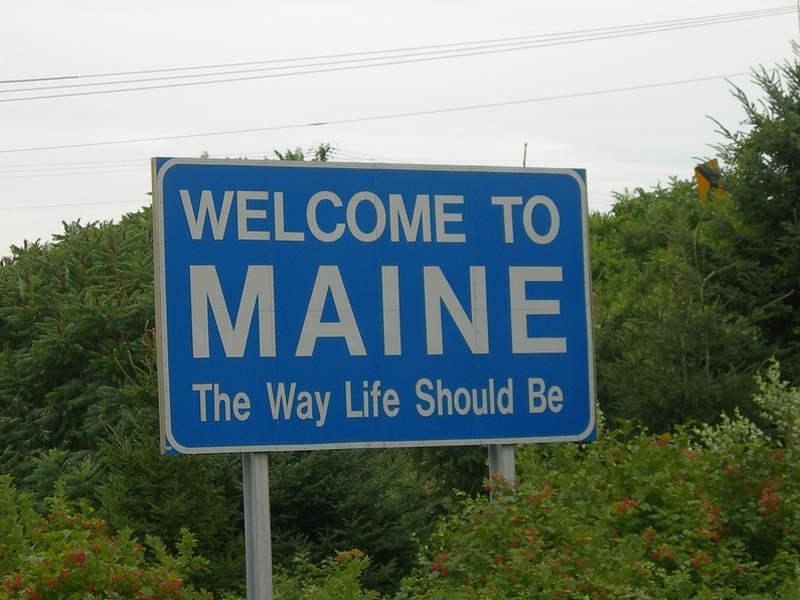text: (193, 262, 208, 361), (209, 262, 224, 361), (225, 262, 240, 361), (241, 262, 256, 361), (257, 262, 272, 361), (273, 262, 288, 361), (289, 262, 304, 361), (305, 262, 320, 361), (321, 262, 336, 361), (337, 262, 352, 361), (353, 262, 368, 361), (369, 262, 384, 361), (385, 262, 400, 361), (401, 262, 416, 361), (417, 262, 432, 361), (433, 262, 448, 361), (449, 262, 464, 361), (465, 262, 480, 361), (481, 262, 496, 361), (497, 262, 512, 361), (513, 262, 528, 361), (529, 262, 544, 361), (545, 262, 560, 361), (193, 188, 208, 244), (209, 188, 224, 244), (225, 188, 240, 244), (241, 188, 256, 244), (257, 188, 272, 244), (273, 188, 288, 244), (289, 188, 304, 244), (305, 188, 320, 244), (321, 188, 336, 244), (337, 188, 352, 244), (353, 188, 368, 244), (369, 188, 384, 244), (385, 188, 400, 244), (401, 188, 416, 244), (417, 188, 432, 244), (433, 188, 448, 244), (449, 188, 464, 244), (321, 380, 337, 431), (561, 262, 569, 361), (178, 188, 192, 244), (497, 194, 512, 246), (513, 194, 528, 246), (529, 194, 544, 246), (545, 194, 560, 246), (273, 380, 288, 431), (289, 380, 304, 431), (305, 380, 320, 431), (193, 383, 208, 426), (209, 383, 224, 426), (225, 383, 240, 426), (417, 376, 432, 419), (433, 376, 448, 419), (449, 376, 464, 419), (465, 376, 480, 419), (481, 376, 496, 419), (497, 376, 512, 419), (353, 380, 368, 421), (369, 380, 384, 421), (385, 380, 400, 421), (529, 376, 544, 414), (545, 376, 560, 414), (241, 383, 251, 426), (342, 380, 352, 421), (489, 194, 496, 246), (266, 380, 272, 431), (189, 262, 192, 361), (561, 376, 566, 414), (513, 376, 517, 419), (561, 194, 564, 246), (401, 380, 404, 421), (465, 188, 467, 244), (190, 383, 192, 426), (527, 376, 528, 414)
